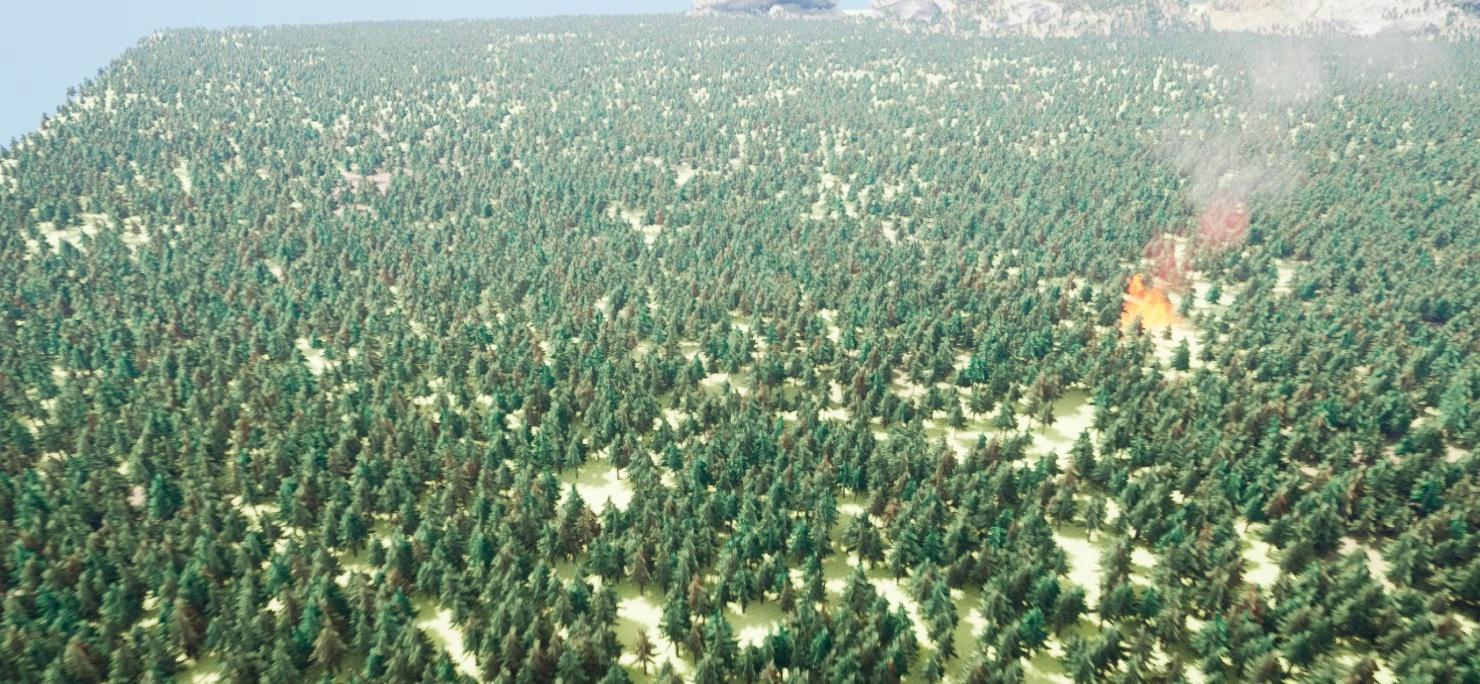fire: (1120, 279, 1185, 329)
smoke: (1148, 26, 1443, 277)
